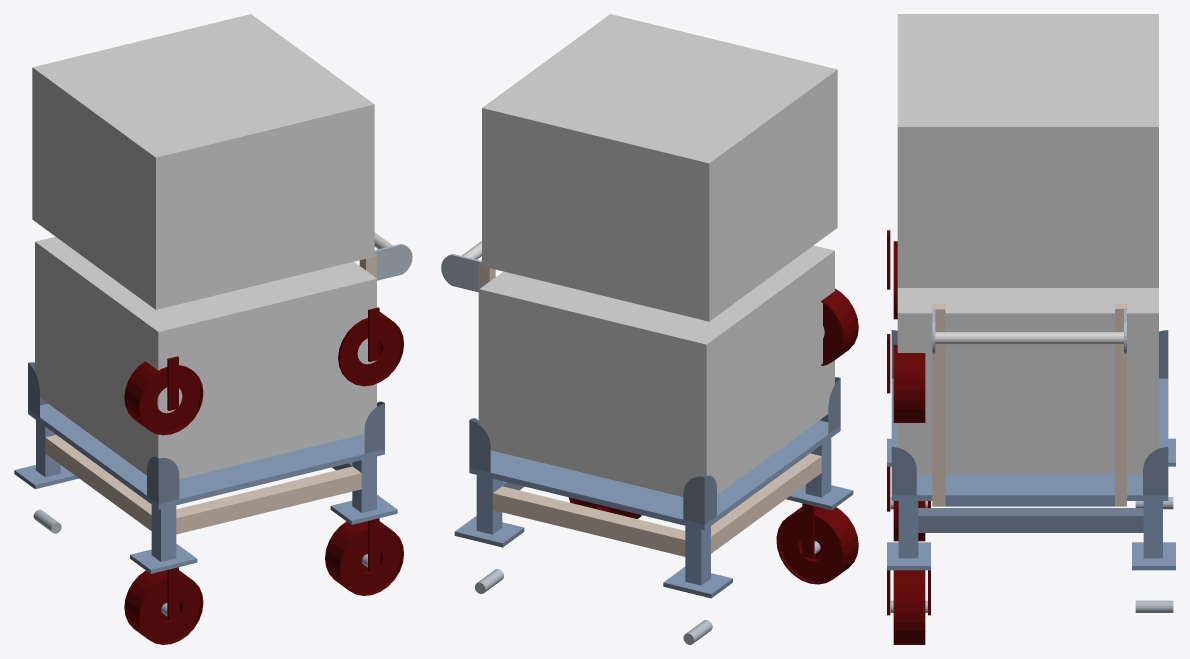
File: Carro Enco.glb
The picture shows the model from 3 angles, left to right: view 1: azimuth 30°, elevation 25°; view 2: azimuth 150°, elevation 25°; view 3: azimuth 270°, elevation 25°; orthographic projection. The views are drawn at different scales.
Visible parts, largest first — view 1: imagetostl_mesh; view 2: imagetostl_mesh; view 3: imagetostl_mesh.
Part boxes in pixels (x1,y1,x2,y2): imagetostl_mesh: (14, 14, 412, 644); imagetostl_mesh: (441, 14, 858, 644); imagetostl_mesh: (887, 14, 1175, 644).
Bounding box in the file's own units: 44.62 × 71.42 × 36.18.
